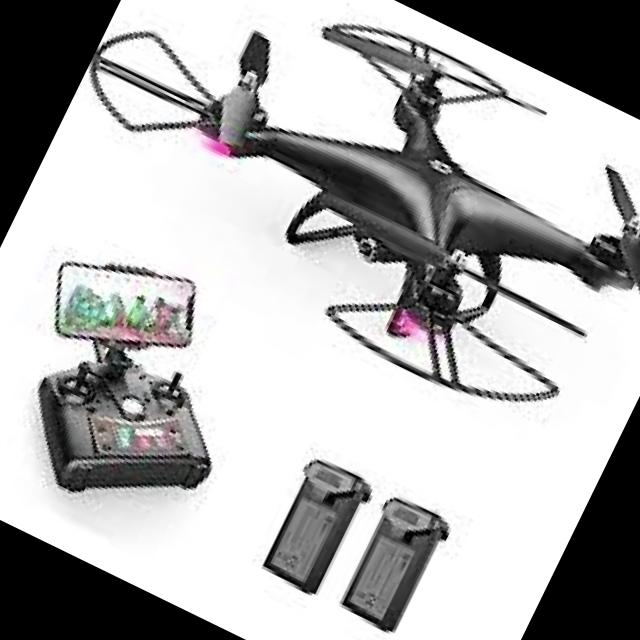drone: (18, 0, 640, 489)
